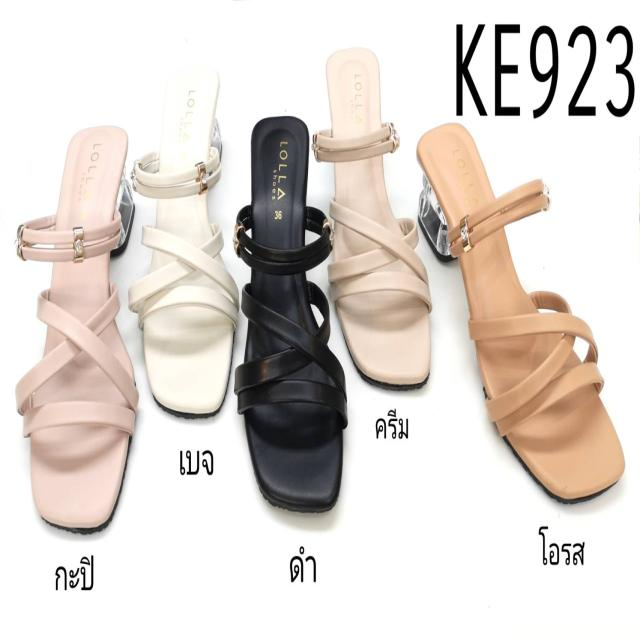bej: (142, 72, 234, 420)
black: (237, 114, 347, 516)
cream: (322, 48, 428, 389)
kapi: (29, 127, 138, 532)
yellow: (419, 114, 621, 502)
